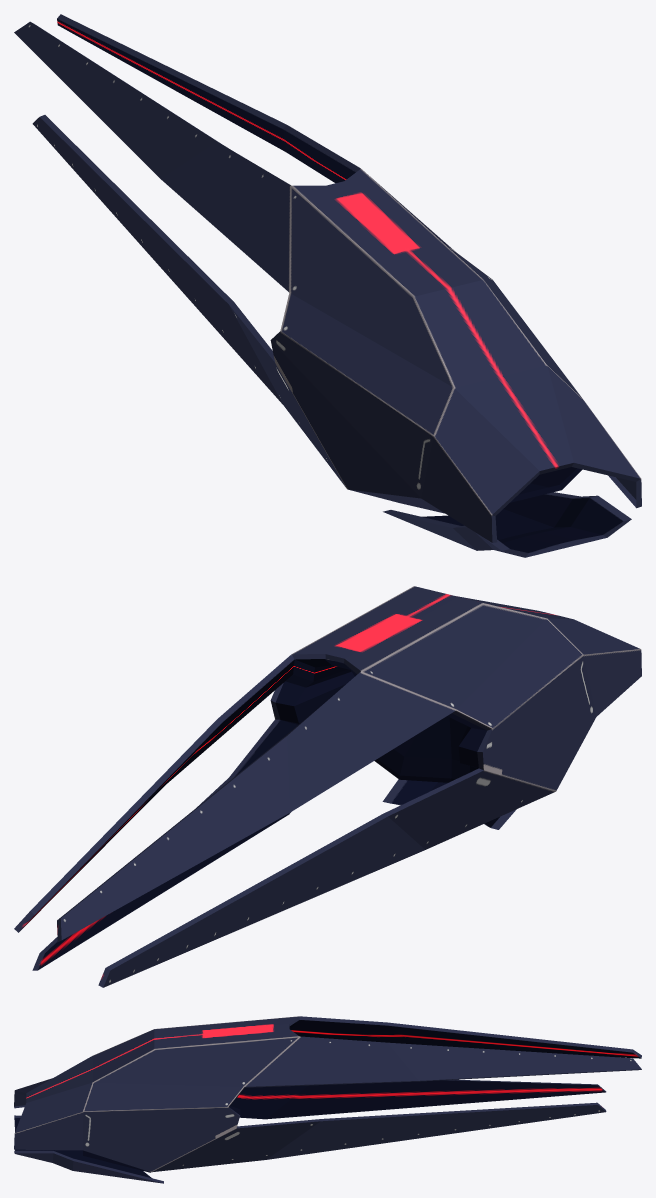
Rendered from Gentleman.Gun.fbx.
The picture shows the model from 3 angles, top to bottom: view 1: azimuth 30°, elevation 25°; view 2: azimuth 150°, elevation 25°; view 3: azimuth 270°, elevation 25°; orthographic projection. The views are drawn at different scales.
Parts seen in each view (by area): view 1: Gun; view 2: Gun; view 3: Gun.
Boxes of the visible parts, left/top/right/bottom form: Gun: left=14, top=14, right=641, bottom=557; Gun: left=14, top=586, right=641, bottom=987; Gun: left=14, top=1016, right=641, bottom=1183.
Size of the model in its own units: 32.1 by 35.37 by 139.
Materials: 1 (1 with a texture image).
